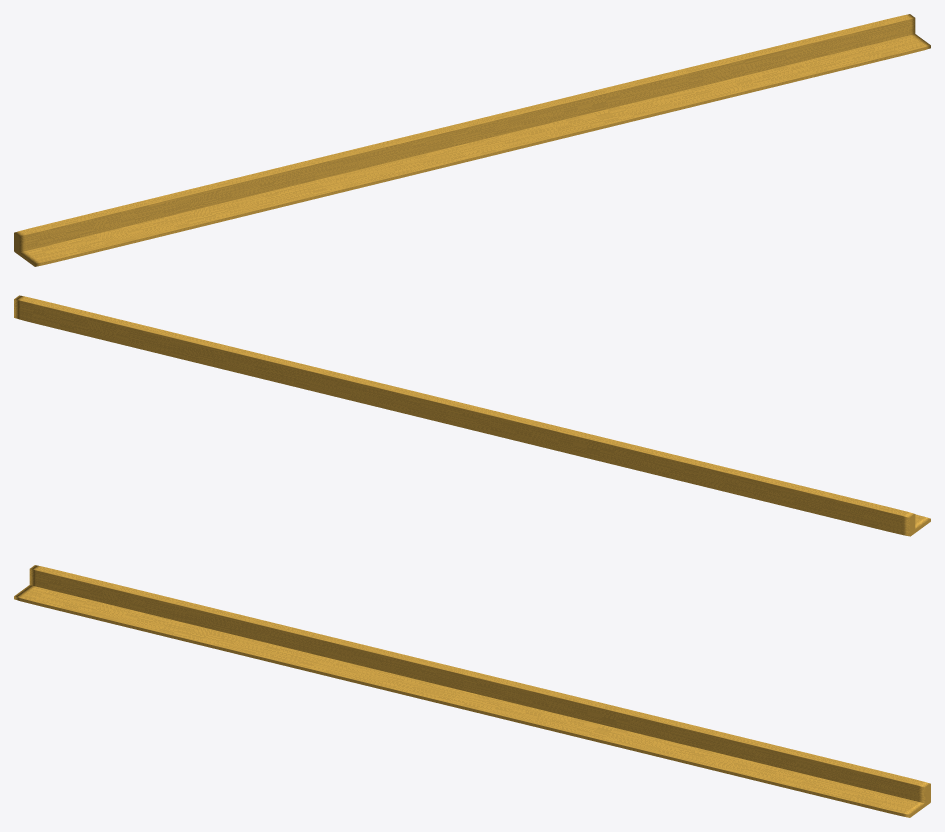
The model's file is nosing.glb.
3 renders of one model, top to bottom at view 1: azimuth 30°, elevation 25°; view 2: azimuth 150°, elevation 25°; view 3: azimuth 330°, elevation 25°, orthographic.
Visible parts, largest first — view 1: web, return; view 2: web, return; view 3: web, return.
Boxes of the visible parts, x1,y1,x2,y2 form: web: [14, 14, 915, 254]; return: [14, 34, 930, 266]; web: [14, 295, 915, 536]; return: [32, 321, 930, 536]; web: [29, 565, 930, 805]; return: [14, 585, 930, 817].
Bounding box in the file's own units: 1.2 × 0.025 × 0.05.
1 material, 1 textured.
